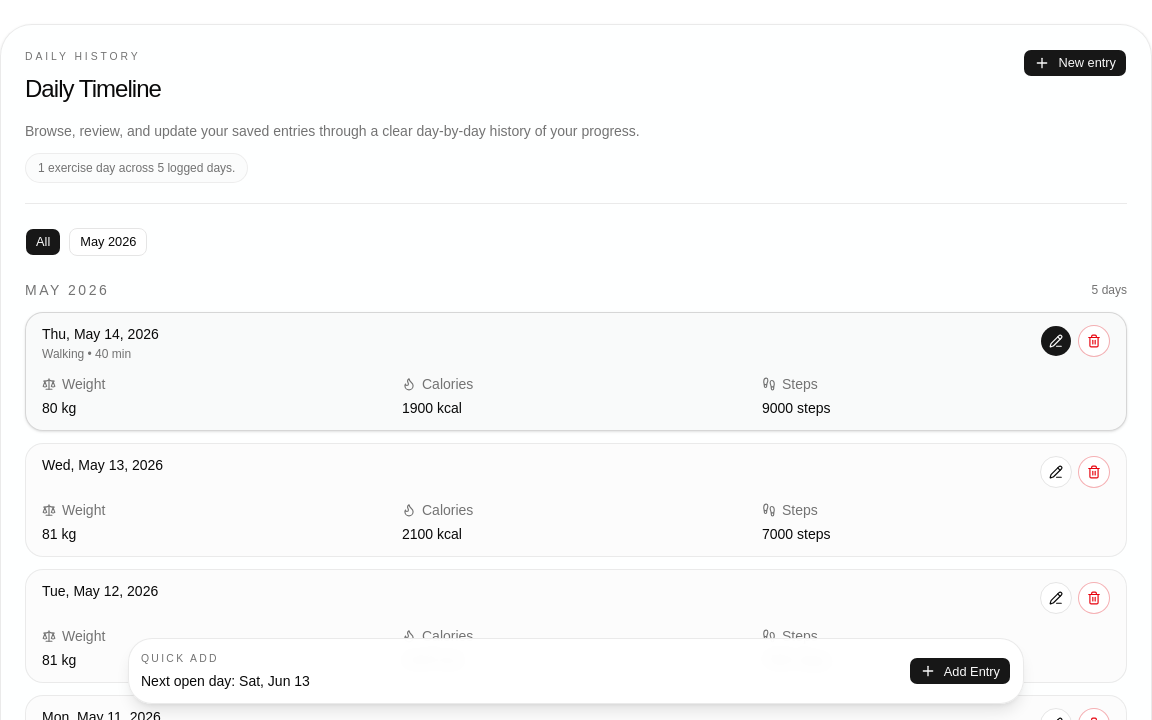
Test: DailyHistoryPage › shows the sticky quick add card only after the top launcher scrolls out of a longer history
The width and height of the screenshot is (1152, 720).
Expected: the text "Quick Add" is shown, [141,653,219,664]
Expected: the text "Next open day: Sat, Jun 13" is shown, [141,671,310,691]
Click the button "Add Entry": (960, 671) [909,657,1011,685]
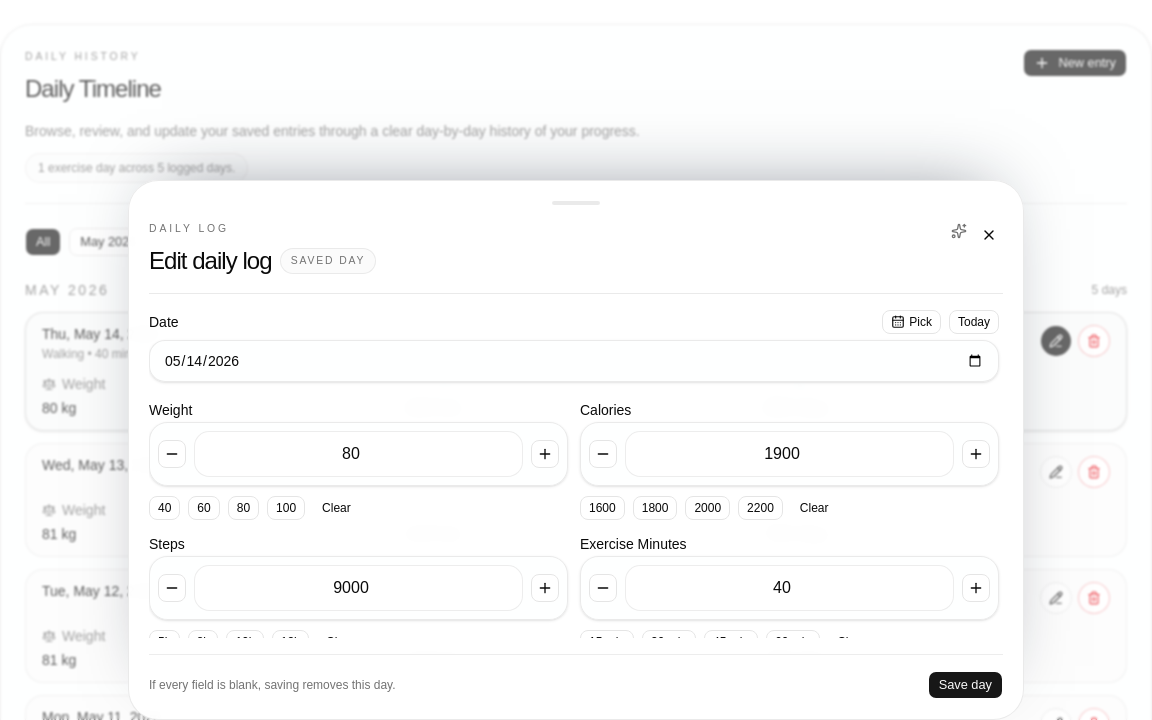
Expected: the dialog "Daily log" is shown, [128,180,1024,719]
